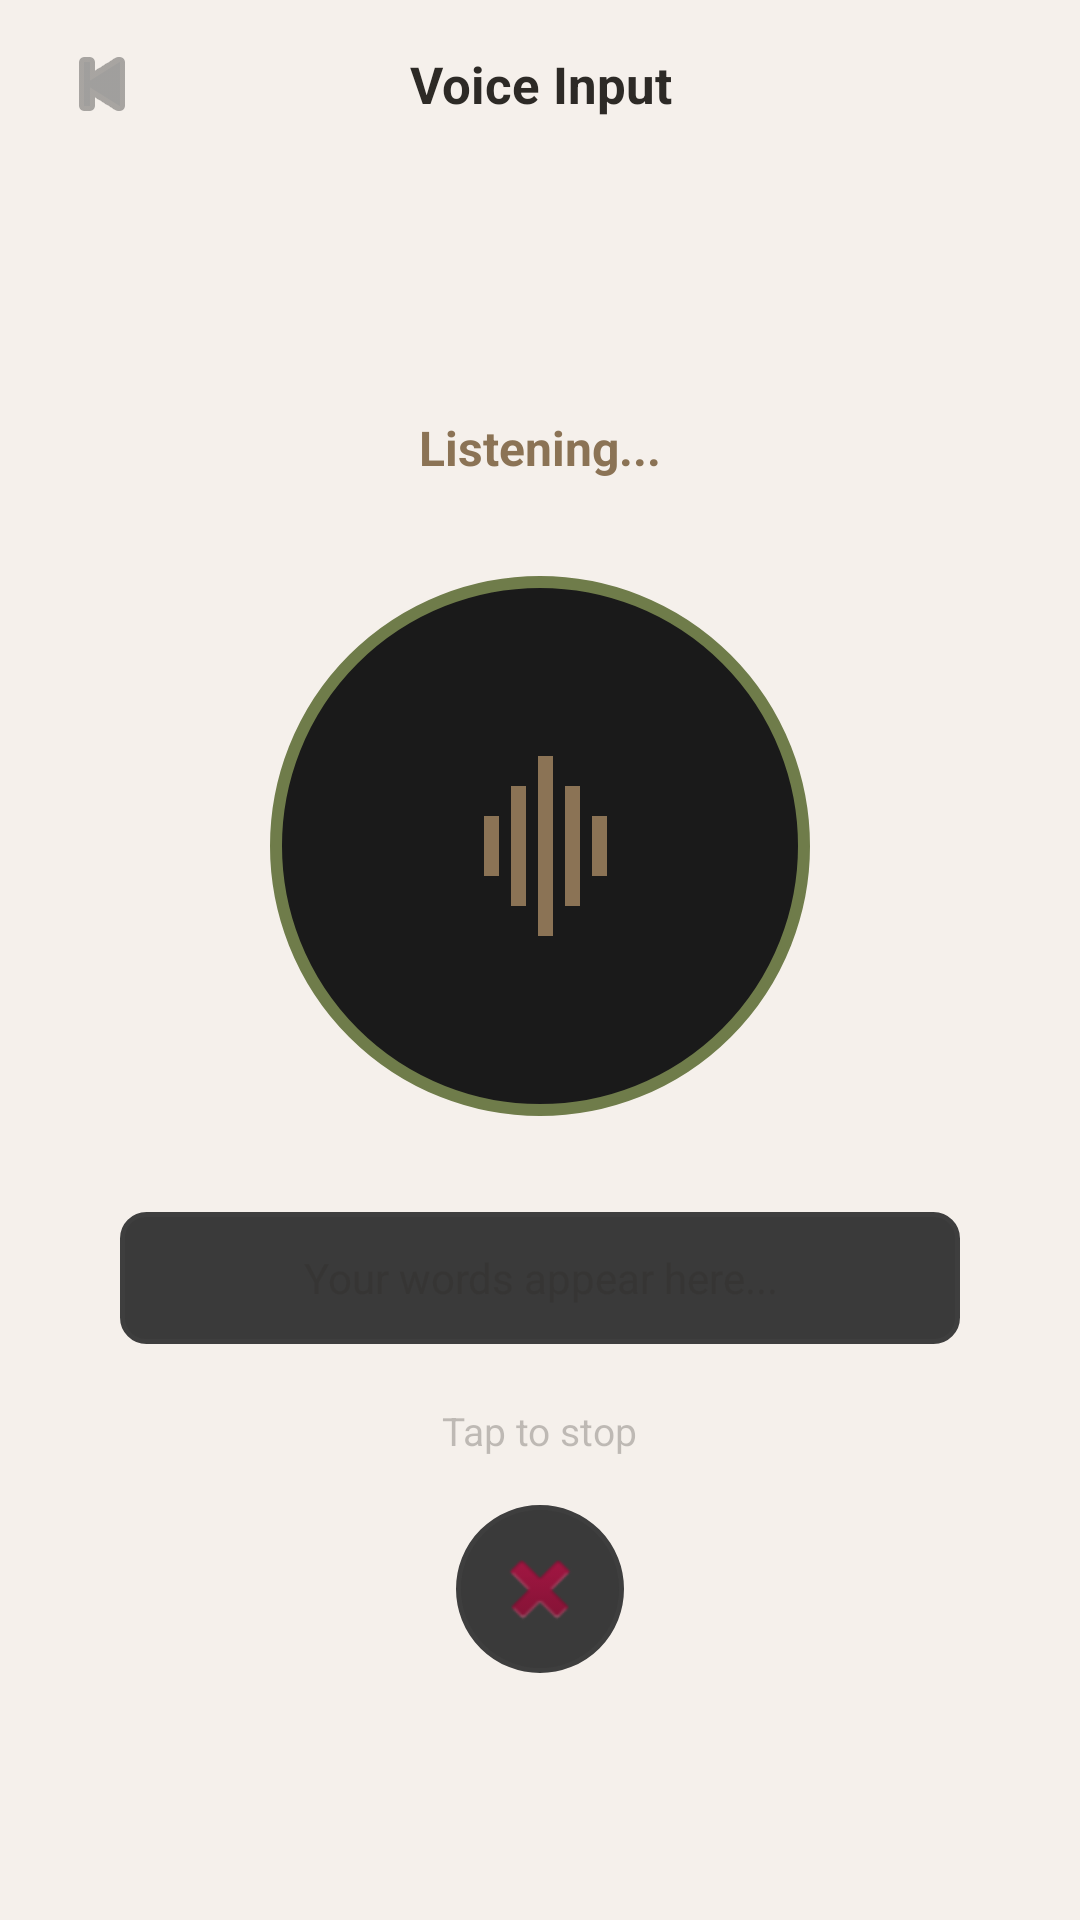

Icons on this 1080x1920 Android screen, each with its box as (x1, y1, x2, y2):
delete: (456, 1505, 624, 1673)
previous: (79, 57, 125, 111)
